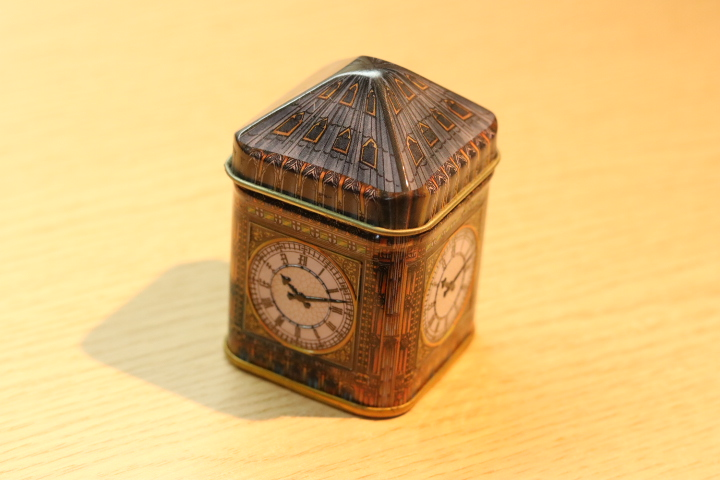Big Ben: (209, 48, 520, 431)
